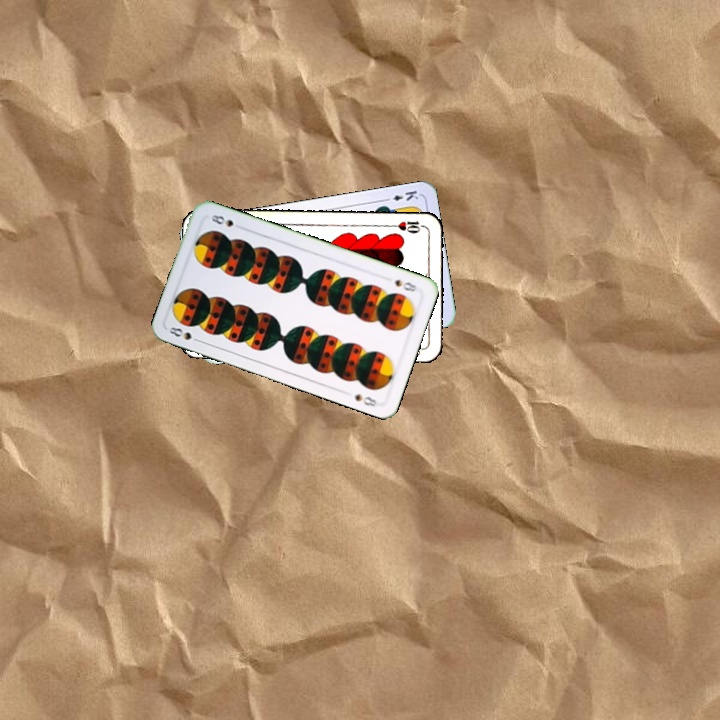EK: (380, 186, 421, 204)
H10: (386, 217, 427, 236)
S8: (164, 323, 204, 345), (391, 275, 423, 294)
